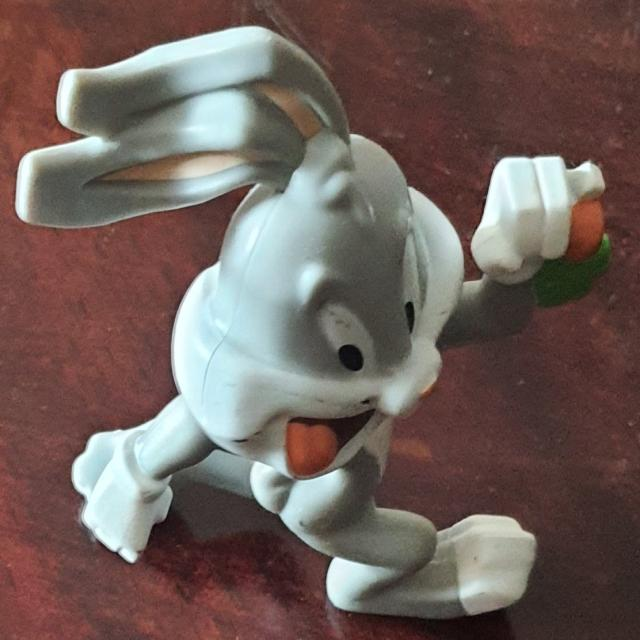Rabbit: (14, 24, 609, 620)
